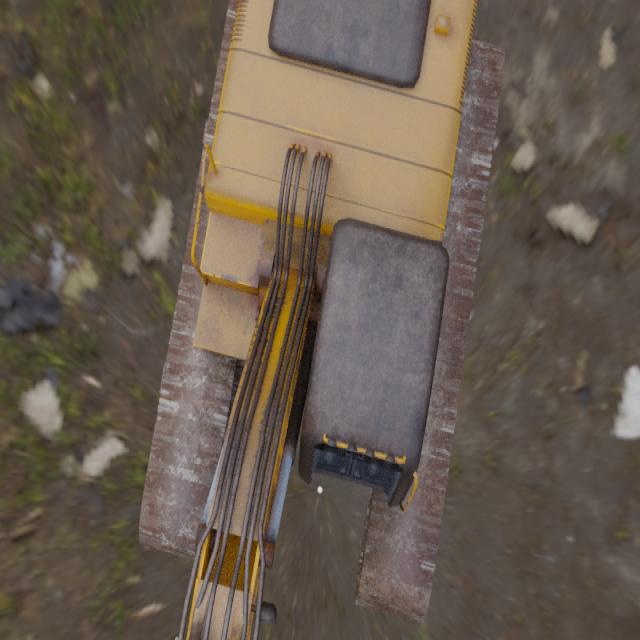excavator: (138, 0, 505, 640)
